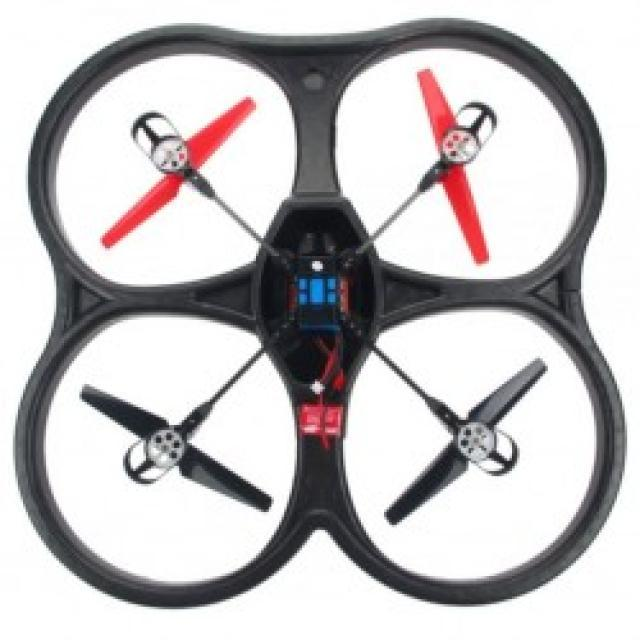drones: (13, 5, 640, 620)
